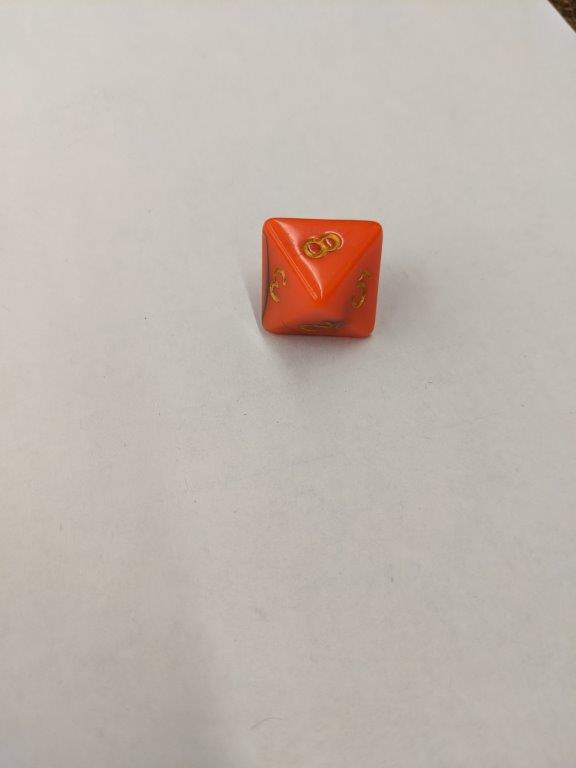d8-8: (259, 216, 384, 344)
